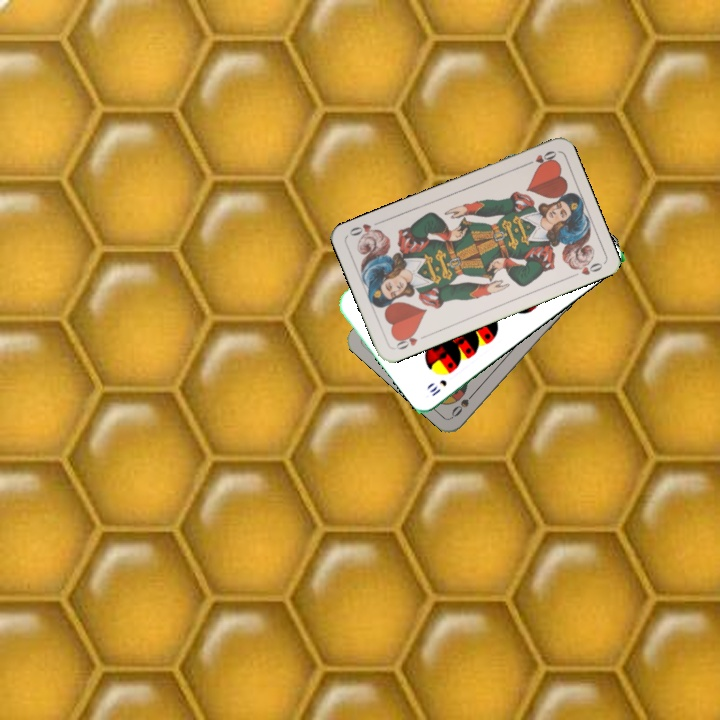HO: (391, 328, 430, 352), (520, 147, 559, 169)
S10: (426, 376, 449, 399)
SO: (447, 386, 479, 420)
